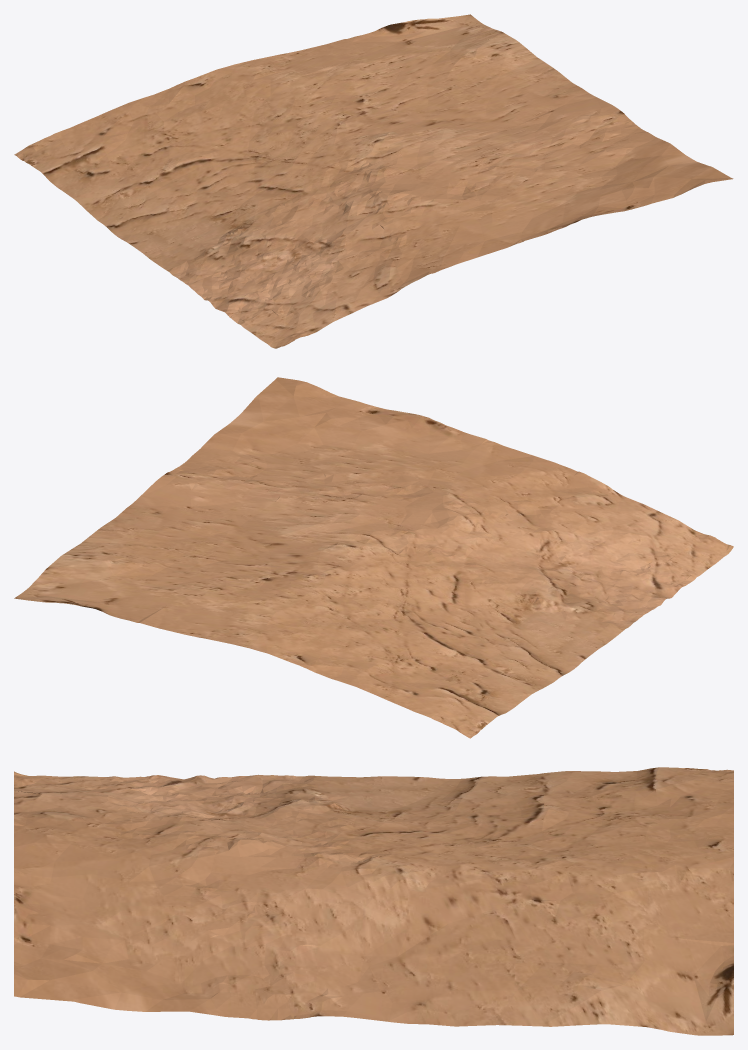
The picture shows the model from 3 angles, top to bottom: view 1: azimuth 30°, elevation 25°; view 2: azimuth 150°, elevation 25°; view 3: azimuth 270°, elevation 25°; orthographic projection. The views are drawn at different scales.
Bounding box in the file's own units: 1.04 × 0.1443 × 1.04.
2 materials, 2 textured.
